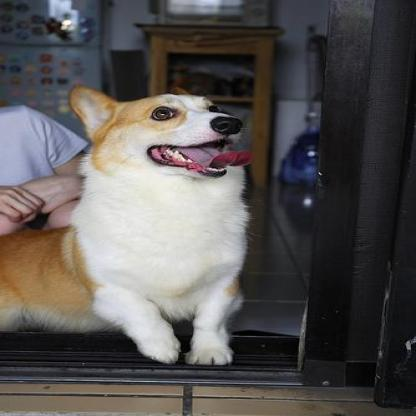Pembroke: (0, 80, 252, 367)
